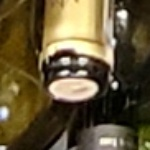bottle: (29, 40, 121, 115)
